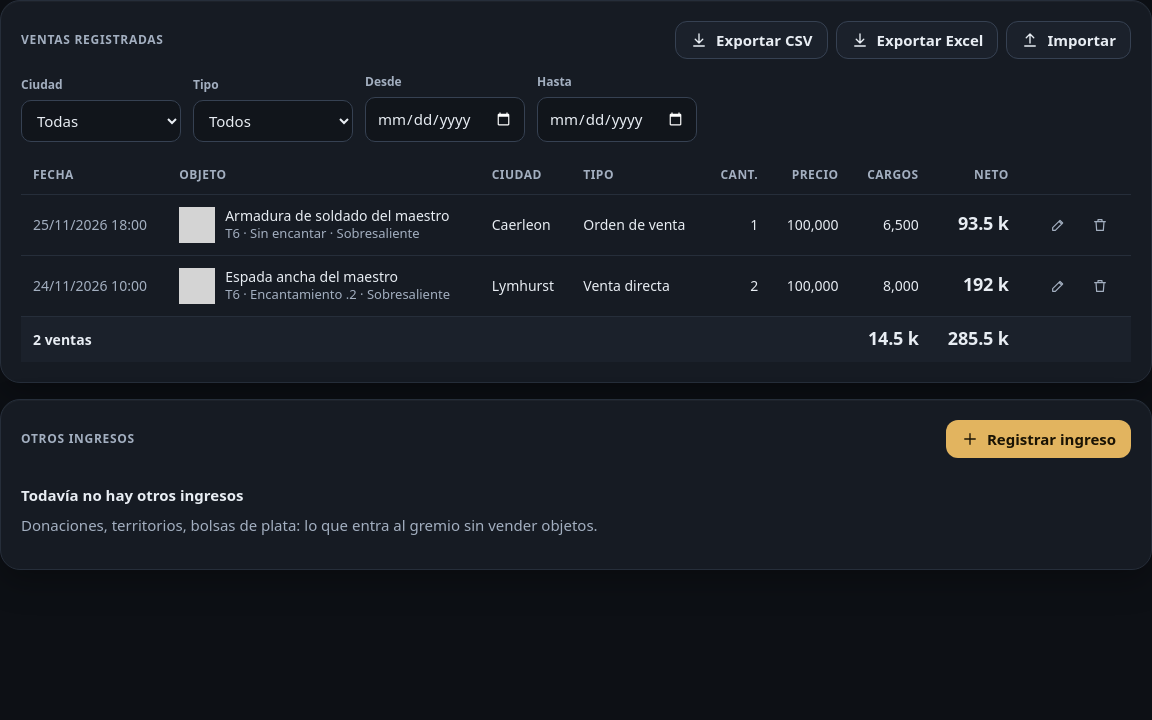
Test: permisos y acciones › el admin puede importar (registrar una venta está siempre en la barra superior)
Expected: the table is shown, [21,156,1131,362]
Click the button "Importar": (1069, 40) [1006,21,1131,59]
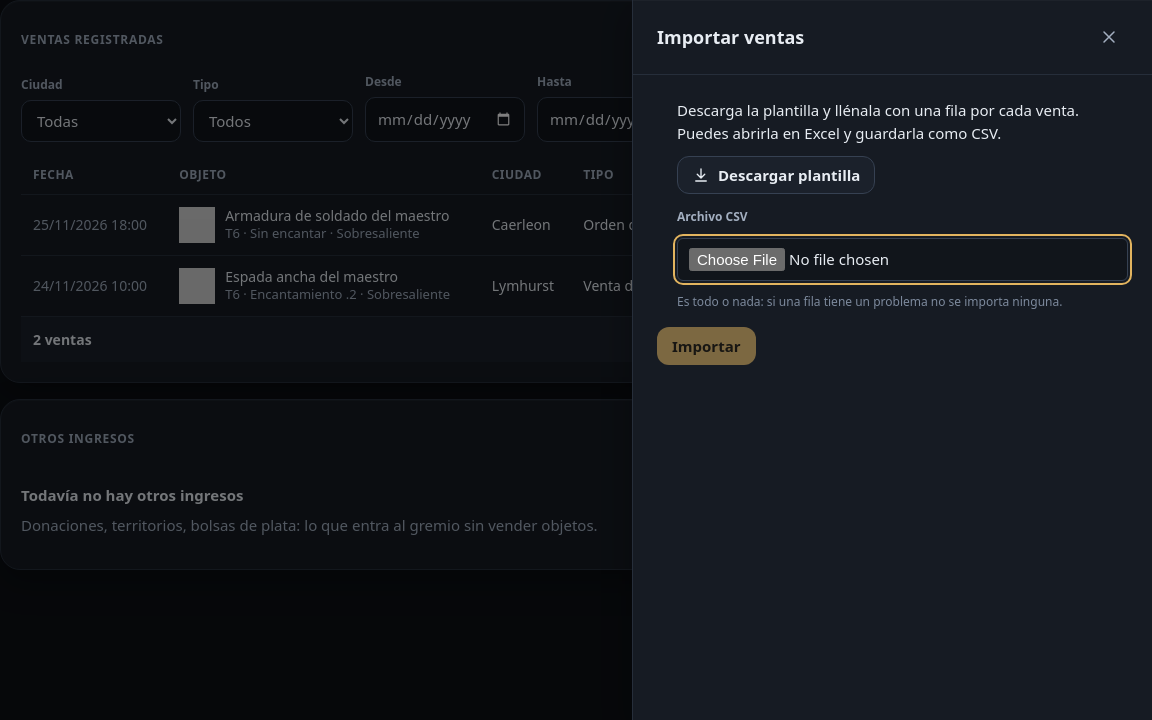
Expected: the dialog "Importar ventas" is shown, [632,0,1151,719]
